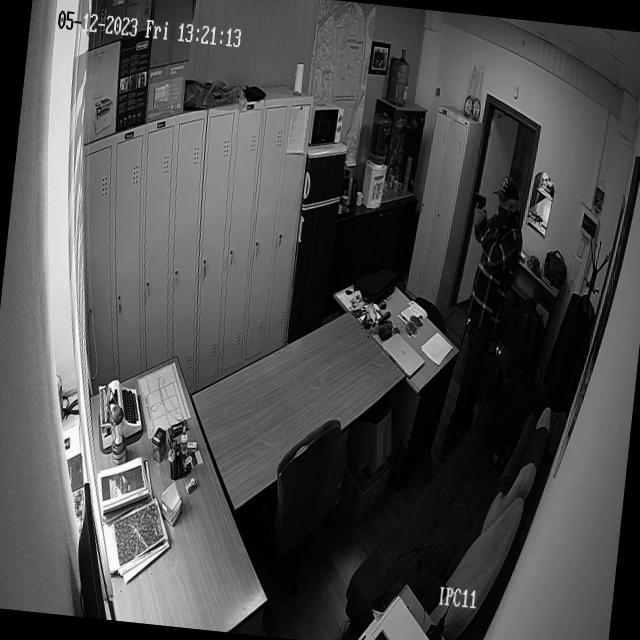gun: (468, 184, 490, 205)
person with a gun: (447, 163, 530, 454)
